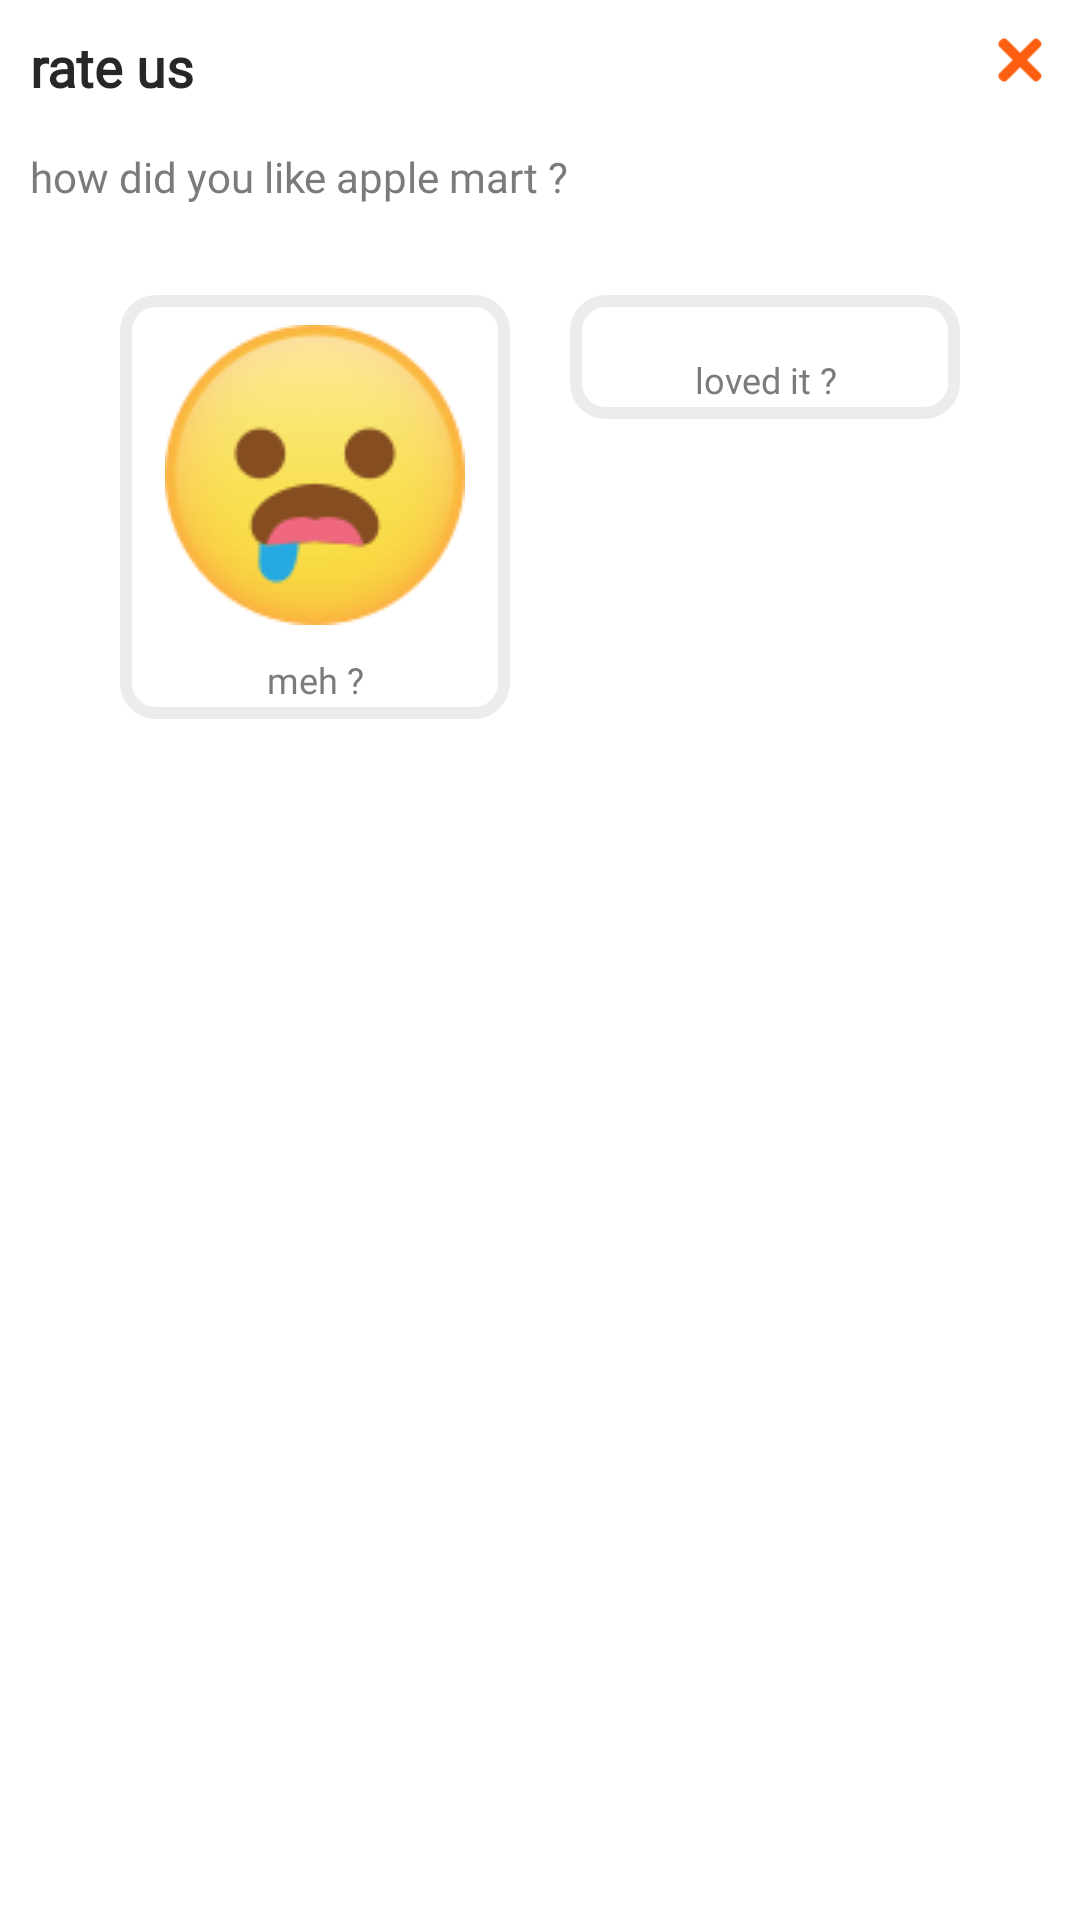

Named icons in this screenshot (1080w x 1920h) and their centers, (x=x, y=y):
close: (x=1020, y=60)
